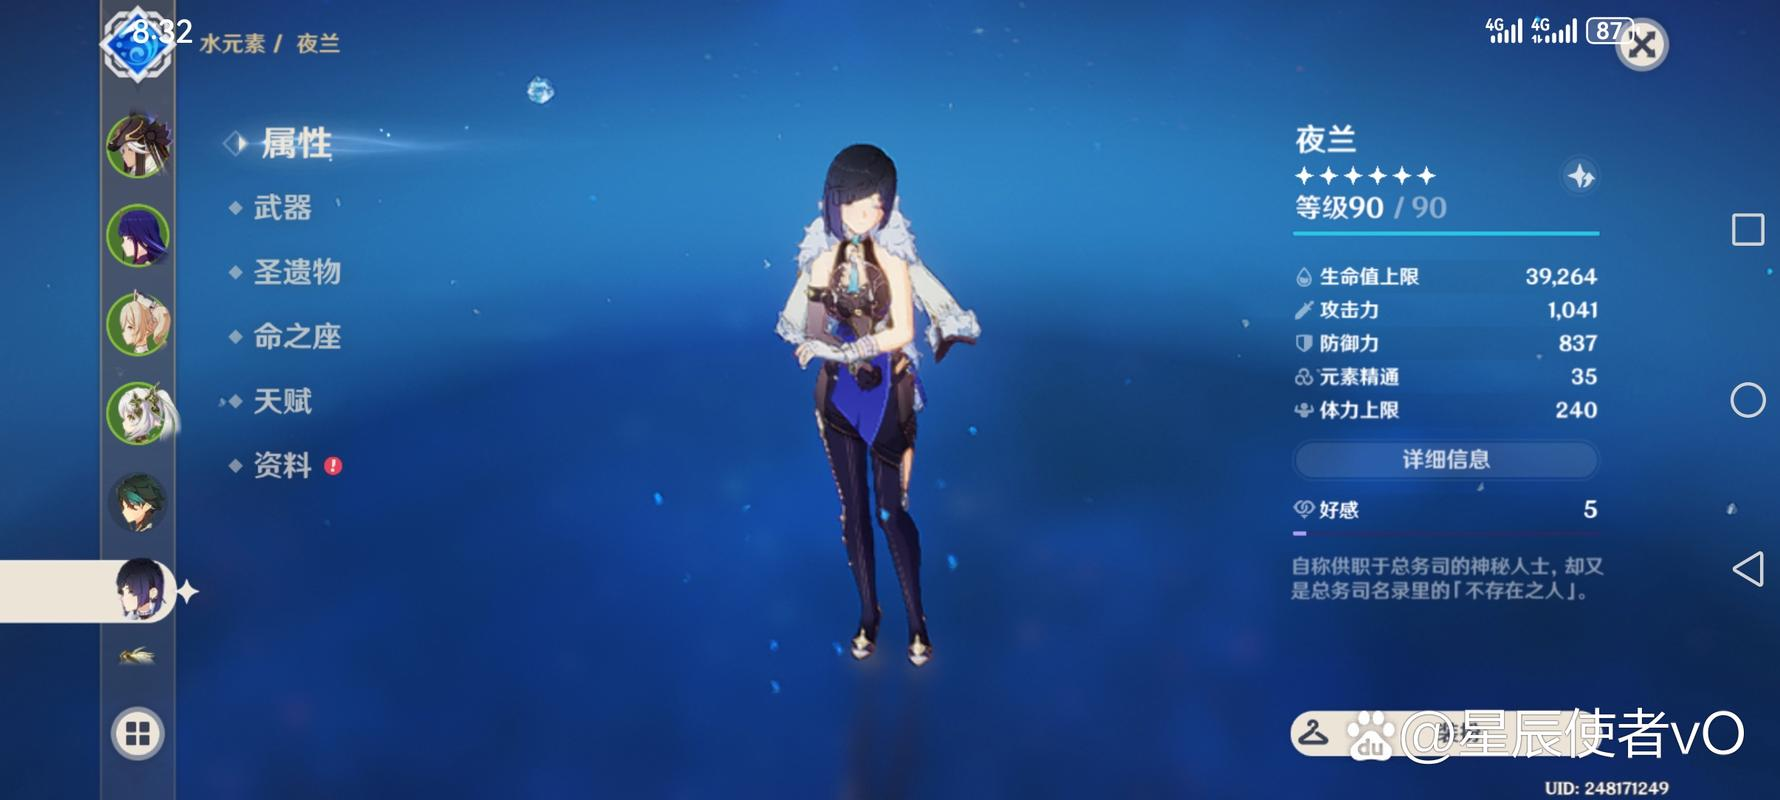夜兰: (781, 136, 965, 677)
